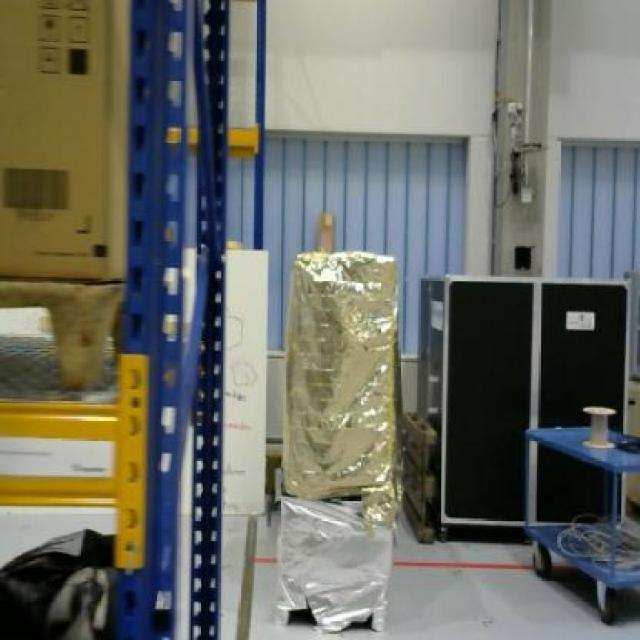box: (0, 0, 126, 278)
